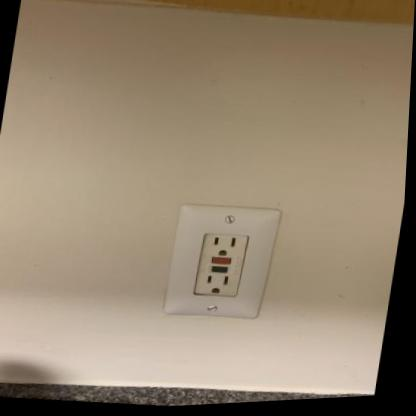OUTLET: (161, 197, 283, 324)
